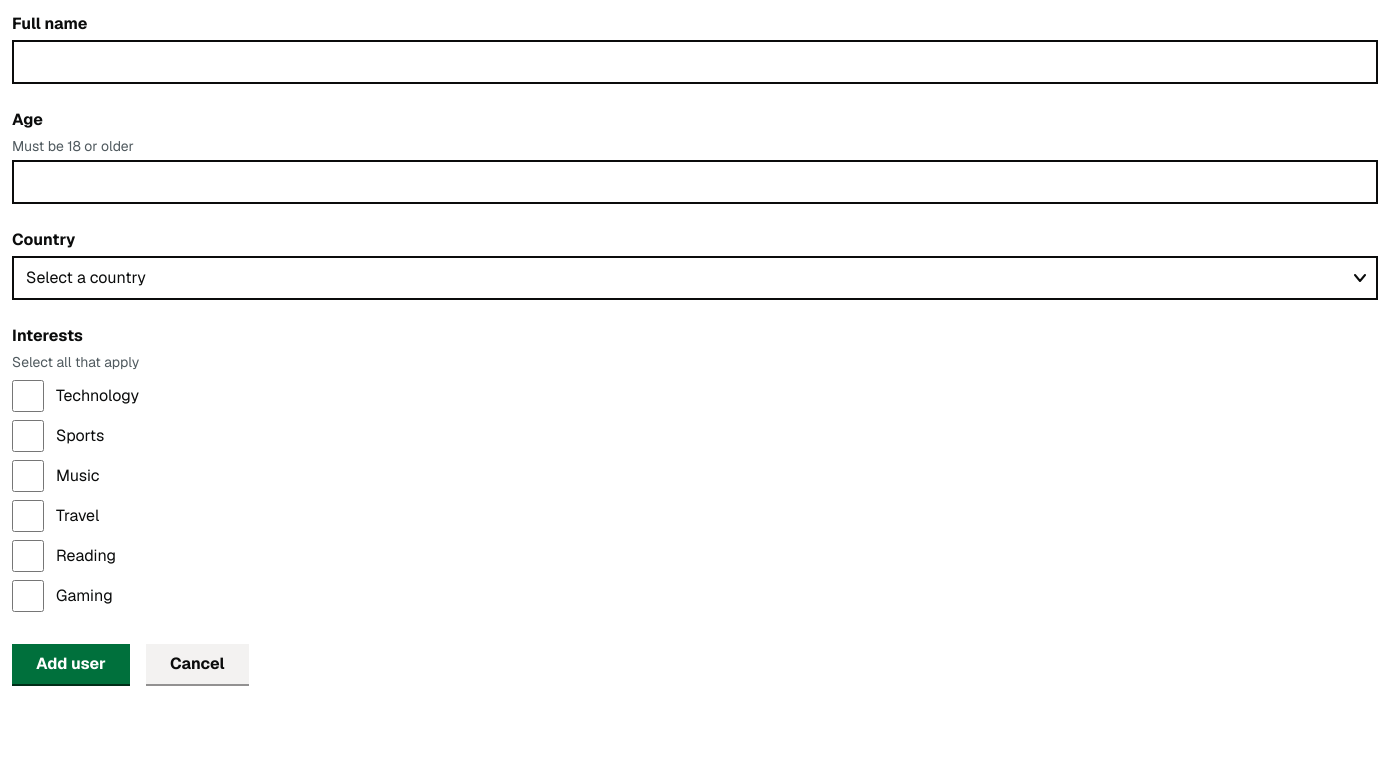
Scenario: UserForm › validation › shows validation errors when submitting an empty form
Step 1. Click the button "Add user" → (71,664), box left=12, top=644, right=130, bottom=684
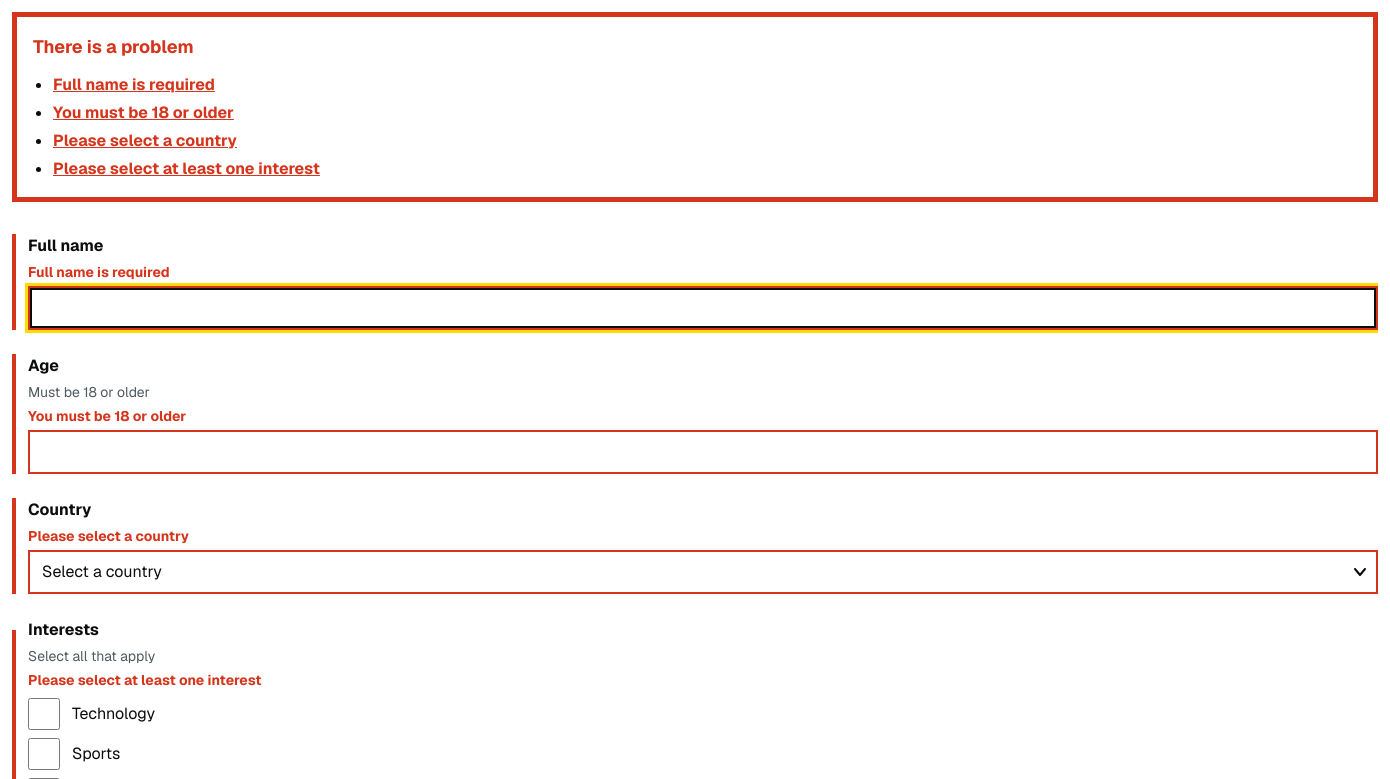
Check: the link "Full name is required" is shown, box left=53, top=74, right=215, bottom=95
Check: the link "Please select a country" is shown, box left=53, top=130, right=237, bottom=151
Check: the link "Please select at least one interest" is shown, box left=53, top=158, right=320, bottom=179
